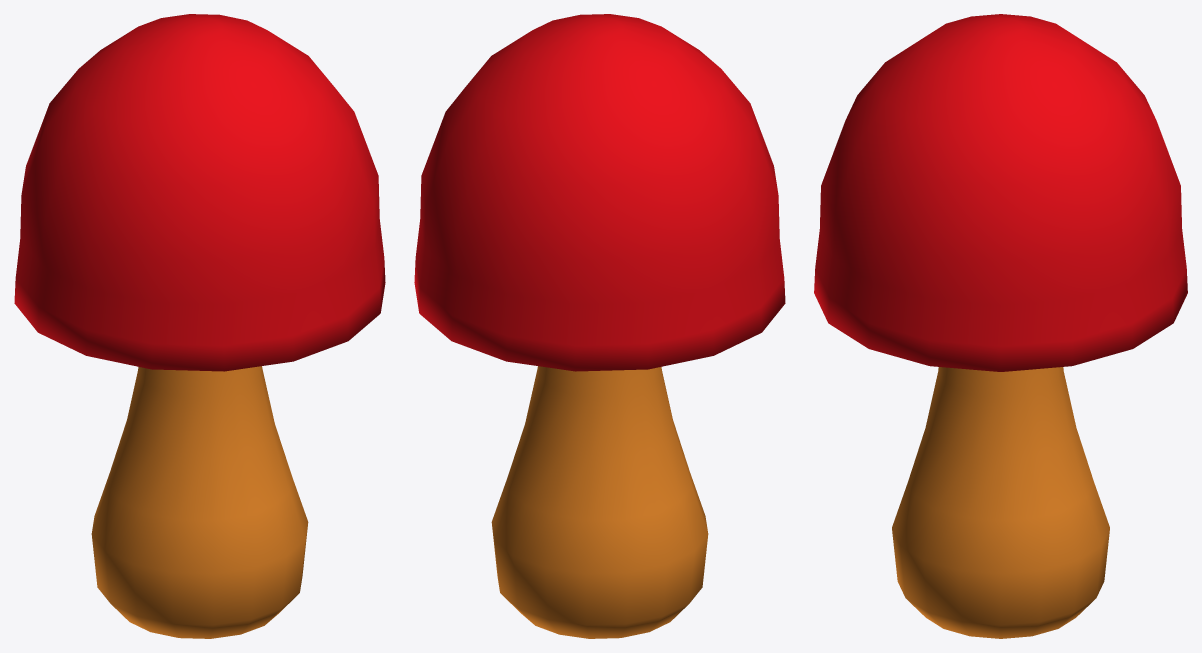
Rendered from CapMushroom.glb.
3 views of the same model, side by side, from view 1: azimuth 30°, elevation 25°; view 2: azimuth 150°, elevation 25°; view 3: azimuth 270°, elevation 25° (orthographic).
Visible parts, largest first — view 1: Plane; view 2: Plane; view 3: Plane.
Part boxes in pixels (x1=…): Plane: x1=14, y1=14, x2=385, y2=638; Plane: x1=414, y1=14, x2=785, y2=638; Plane: x1=814, y1=14, x2=1187, y2=638.
Bounding box in the file's own units: 1.47 × 2.51 × 1.47.
